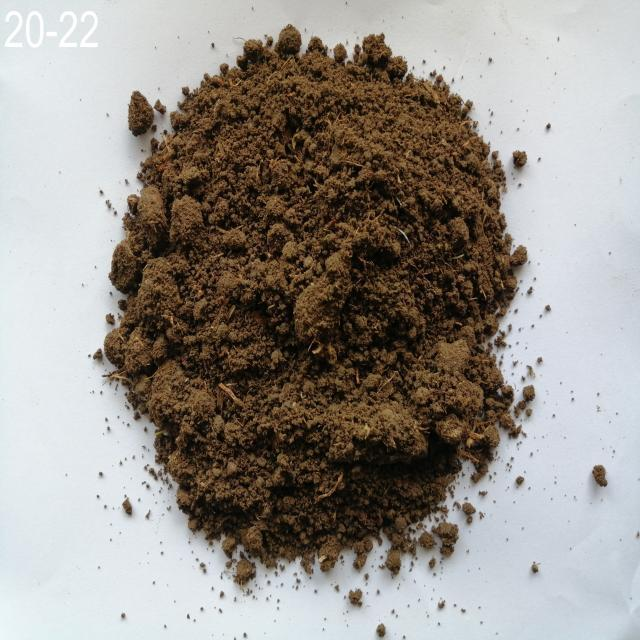soil: (188, 96, 470, 472)
